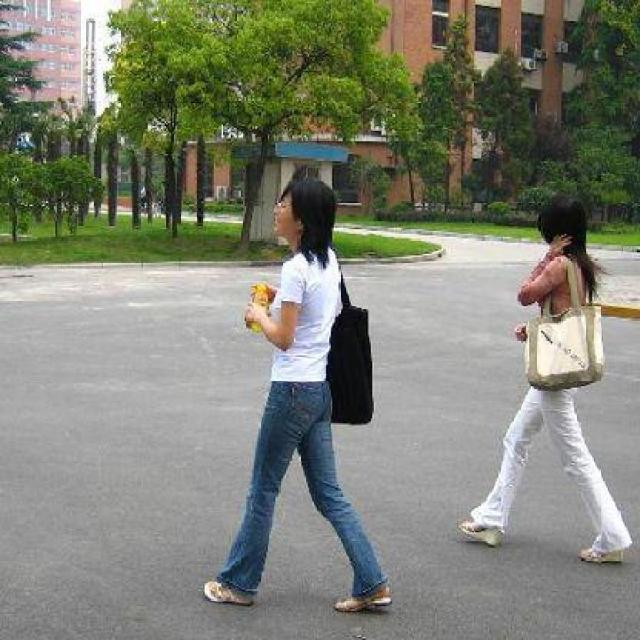Person: (201, 170, 394, 615), (464, 198, 639, 570)
